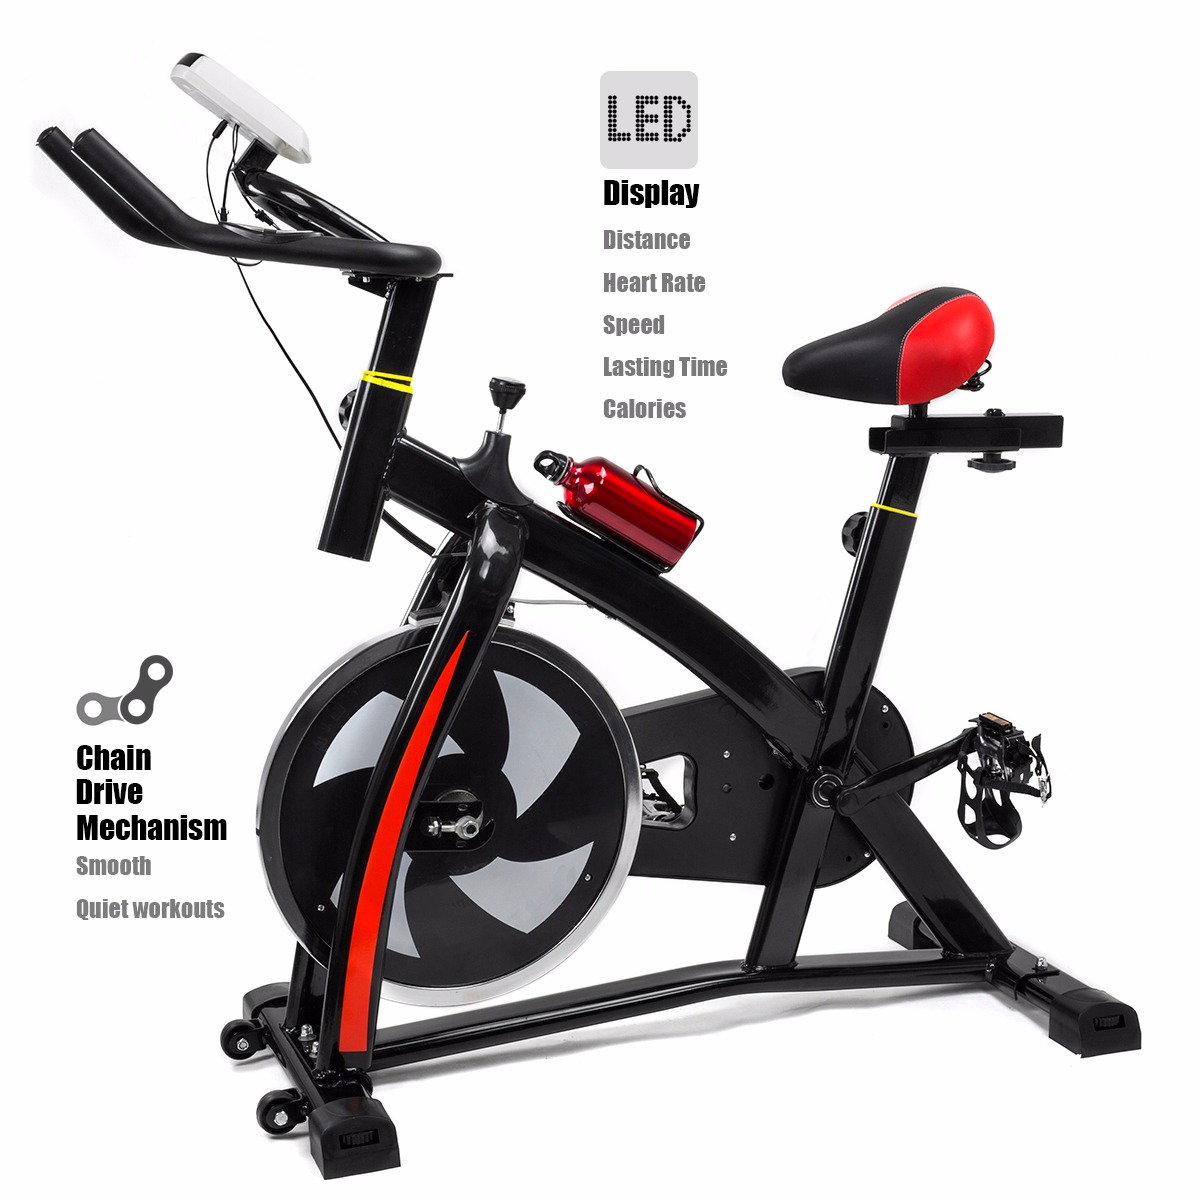gym_bike: (44, 59, 1166, 1191)
